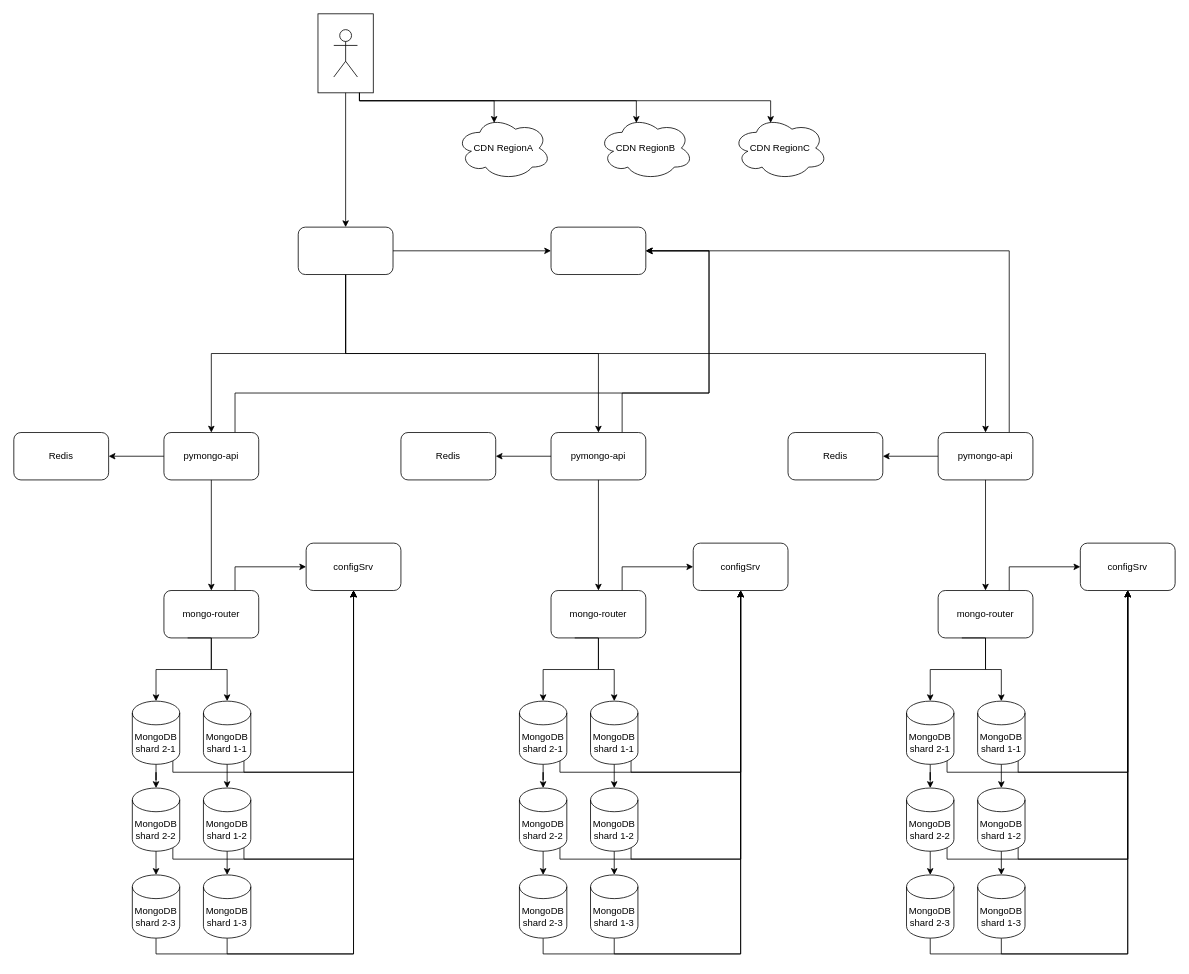
Some shapes in this 1189 by 974 pixel diagram are drawn without their labels. Here are the shapes that lost their labels. From the top down, the centre of each, then its label:
point 345,53: User
point 345,250: API Gateway
point 598,250: Consul
